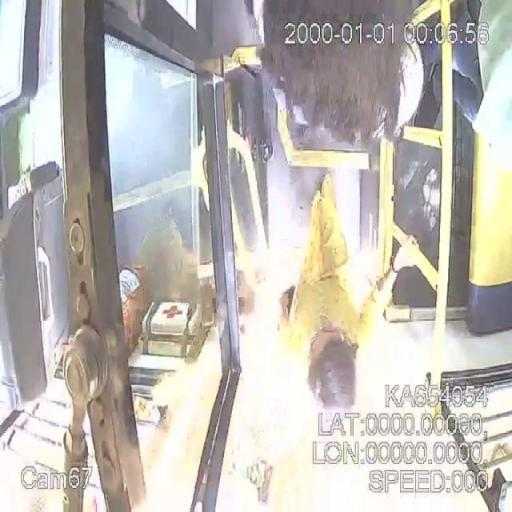persona: (286, 170, 420, 408), (246, 0, 428, 150)
